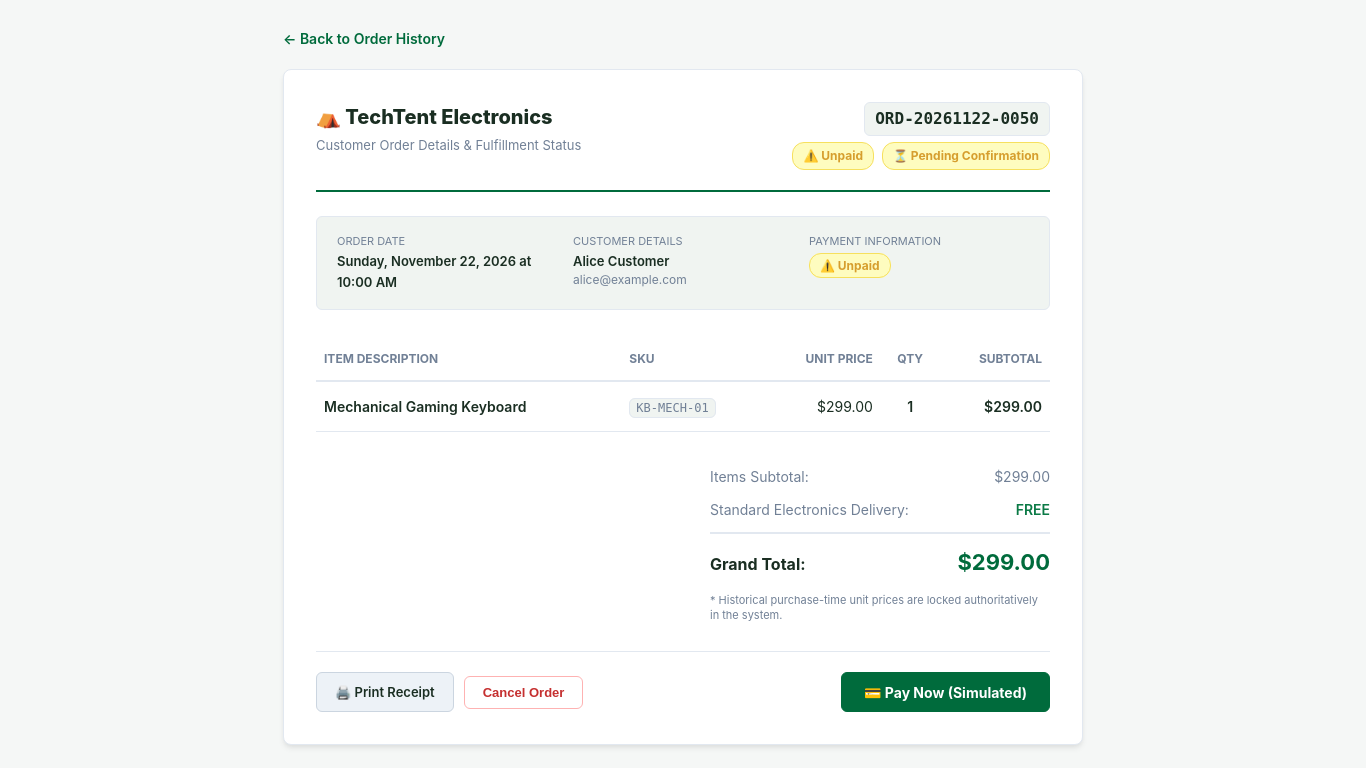
Feature 8: Payment State Machine & Extended Fulfillment UI (F-08) › OrderDetailPage Payment Interactions › displays error banner inside payment modal when pay API fails
The image size is (1366, 768).
expect the text "ORD-20261122-0050" is shown: met, box left=864, top=102, right=1050, bottom=136
Click the button with test id "pay-now-btn": (946, 692) left=841, top=672, right=1050, bottom=712
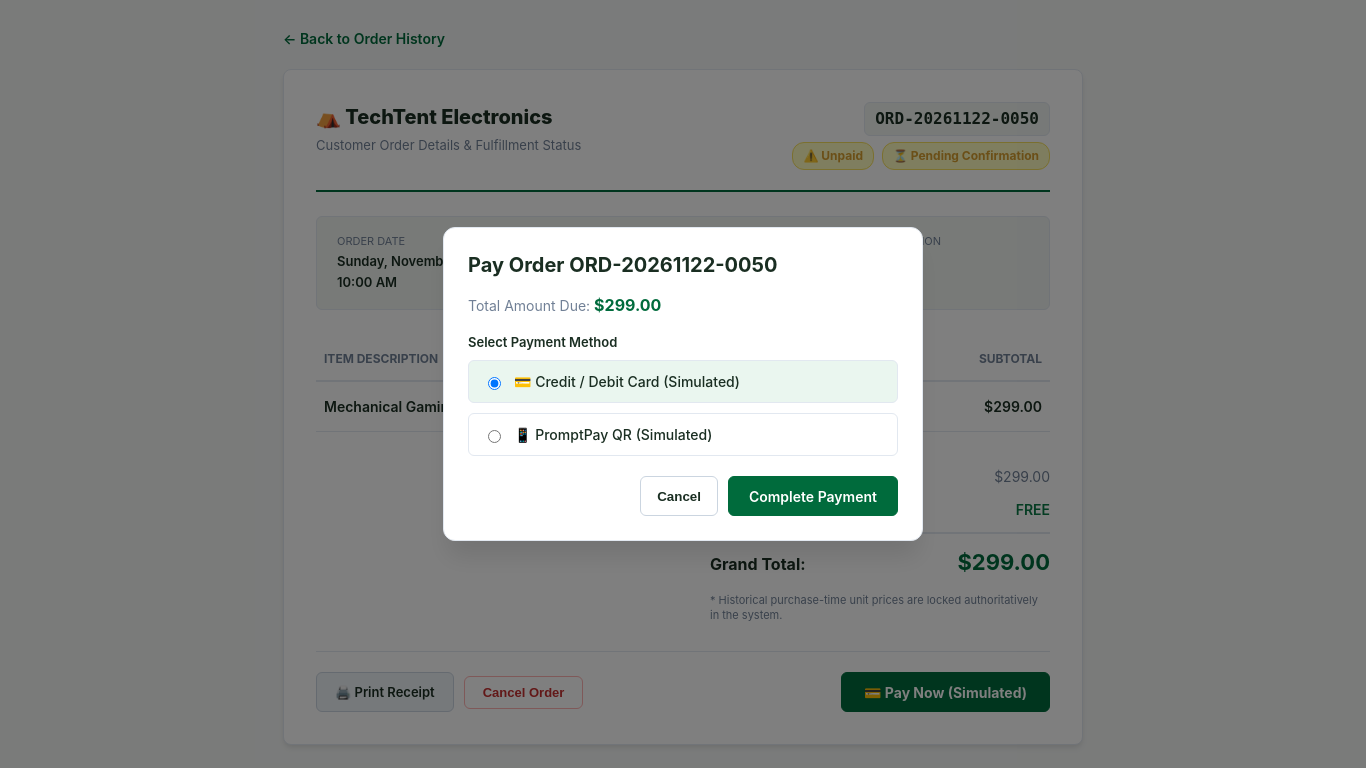
Click the button with test id "confirm-pay-btn": (813, 496) left=728, top=476, right=898, bottom=516
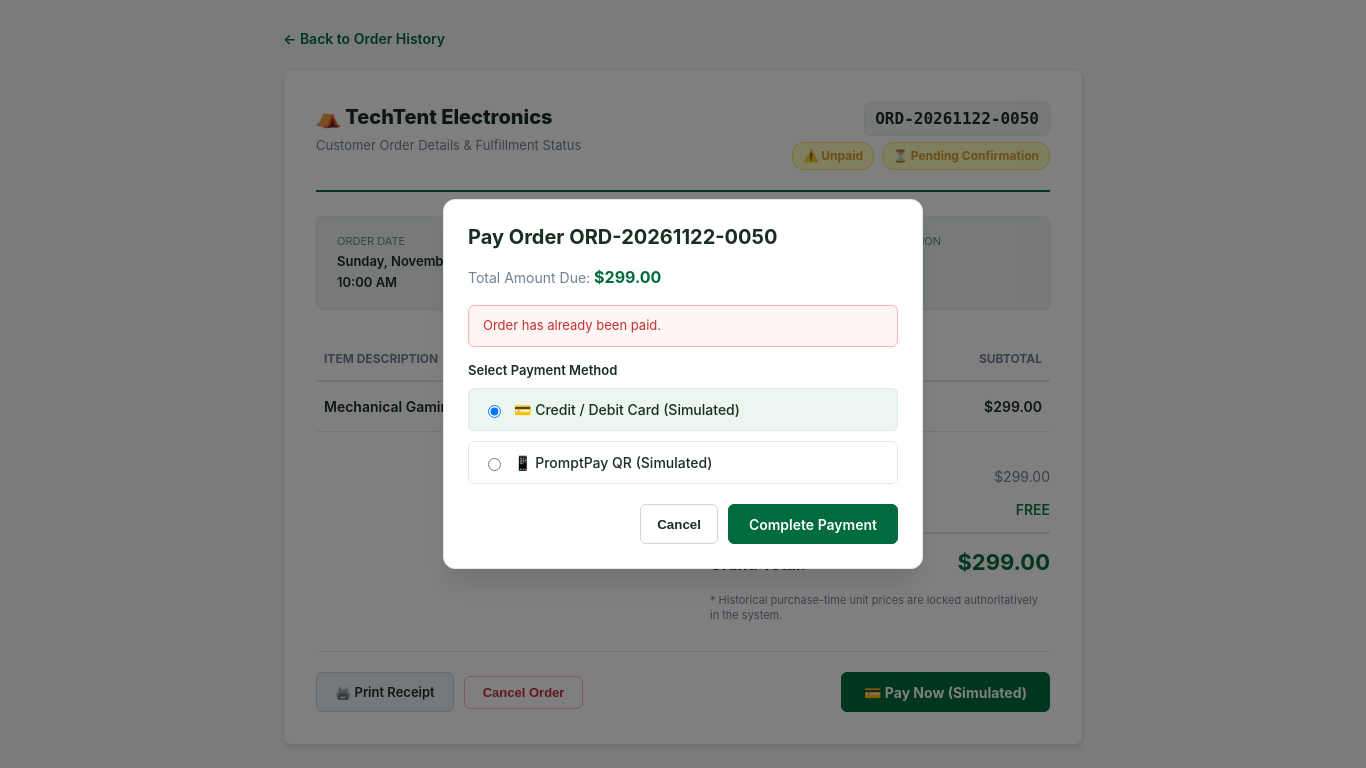
expect the text "Order has already been paid." is shown: met, box left=468, top=305, right=898, bottom=346
expect the text with test id "pay-error-banner" reads "Order has already been paid.": met, box left=483, top=317, right=661, bottom=333
